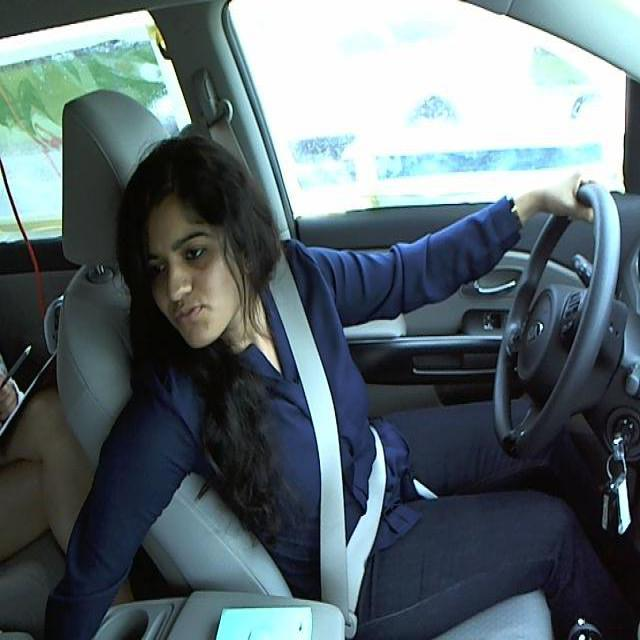seatbelt: (272, 280, 398, 605)
